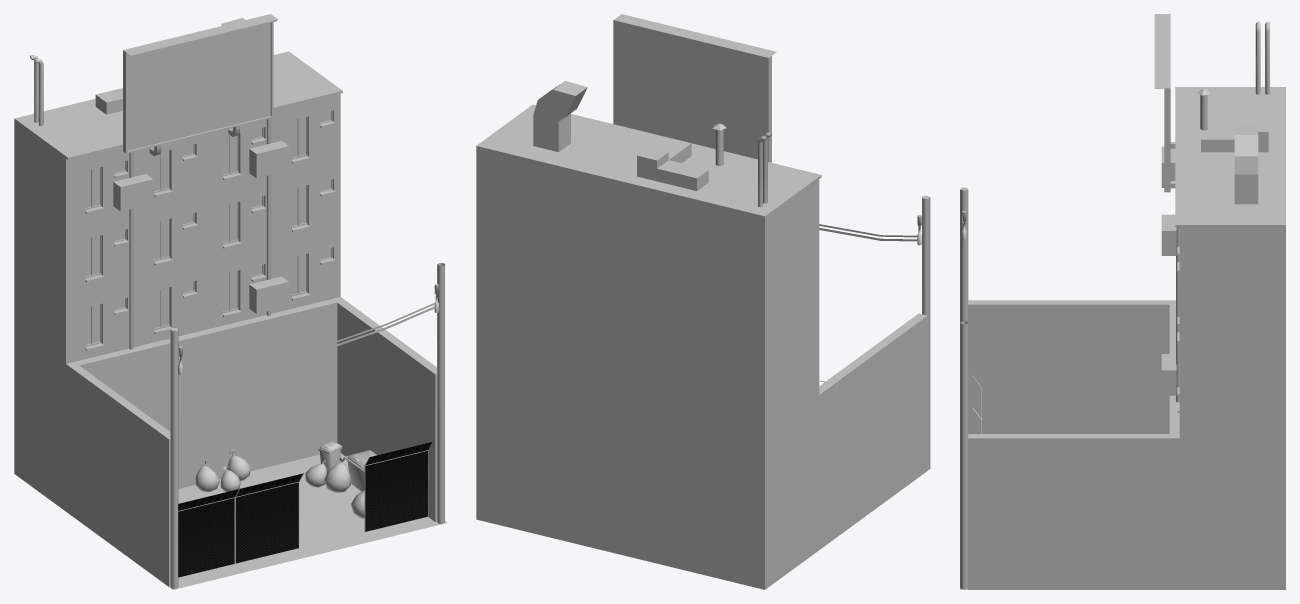
Rendered from Builiding_ParisBackYard.obj.
3 views of the same model, side by side, from view 1: azimuth 30°, elevation 25°; view 2: azimuth 150°, elevation 25°; view 3: azimuth 270°, elevation 25° (orthographic). The views are drawn at different scales.
Visible parts, largest first — view 1: Builiding_ParisBackYard; view 2: Builiding_ParisBackYard; view 3: Builiding_ParisBackYard.
Boxes of the visible parts, x1,y1,x2,y2 form: Builiding_ParisBackYard: [14, 14, 447, 589]; Builiding_ParisBackYard: [476, 14, 930, 589]; Builiding_ParisBackYard: [960, 14, 1285, 589].
Bounding box in the file's own units: 3.9 × 6.17 × 3.9.
